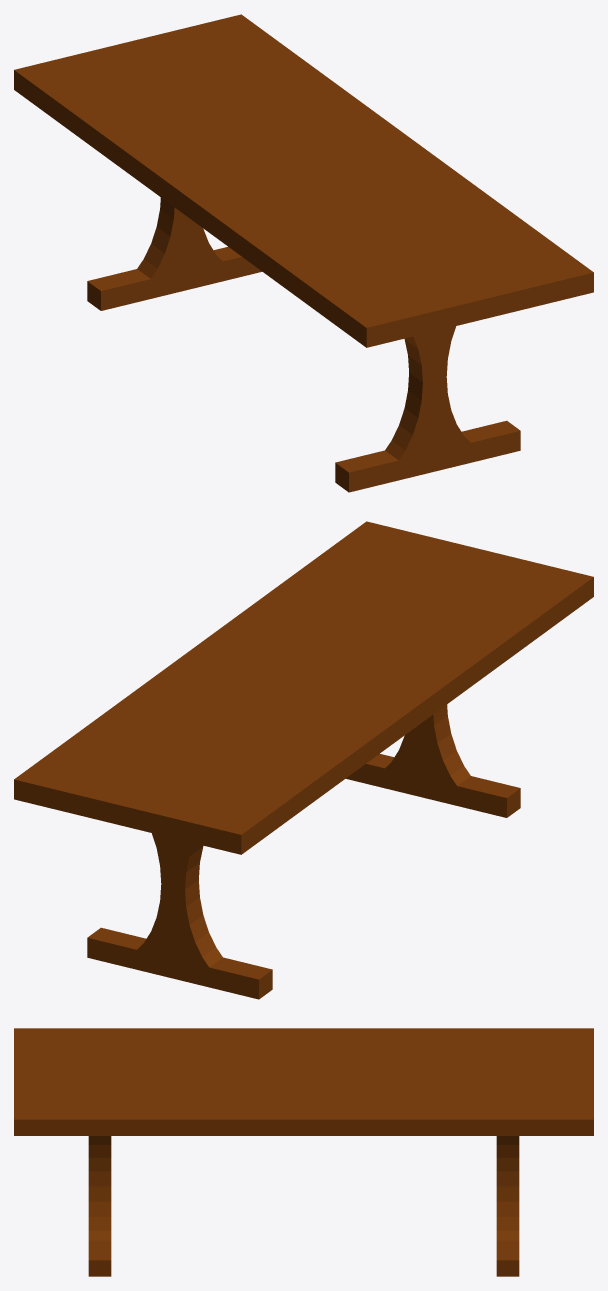
The model's file is Tisch1.fbx.
3 views of the same model, one above another, from view 1: azimuth 30°, elevation 25°; view 2: azimuth 150°, elevation 25°; view 3: azimuth 270°, elevation 25° (orthographic). The views are drawn at different scales.
Visible parts, largest first — view 1: Tisch; view 2: Tisch; view 3: Tisch.
Boxes of the visible parts, x1,y1,x2,y2 form: Tisch: (14, 14, 593, 492); Tisch: (14, 521, 593, 999); Tisch: (14, 1028, 593, 1276).
Bounding box in the file's own units: 477 × 410 × 1280.
